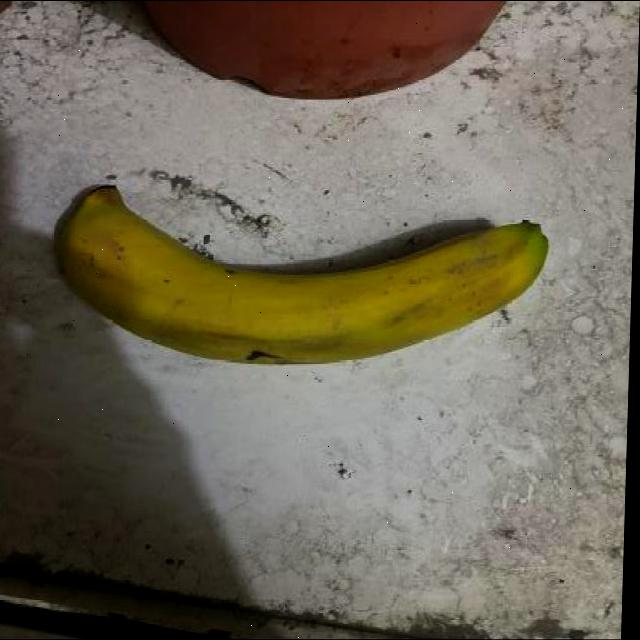banana: (45, 178, 554, 373)
